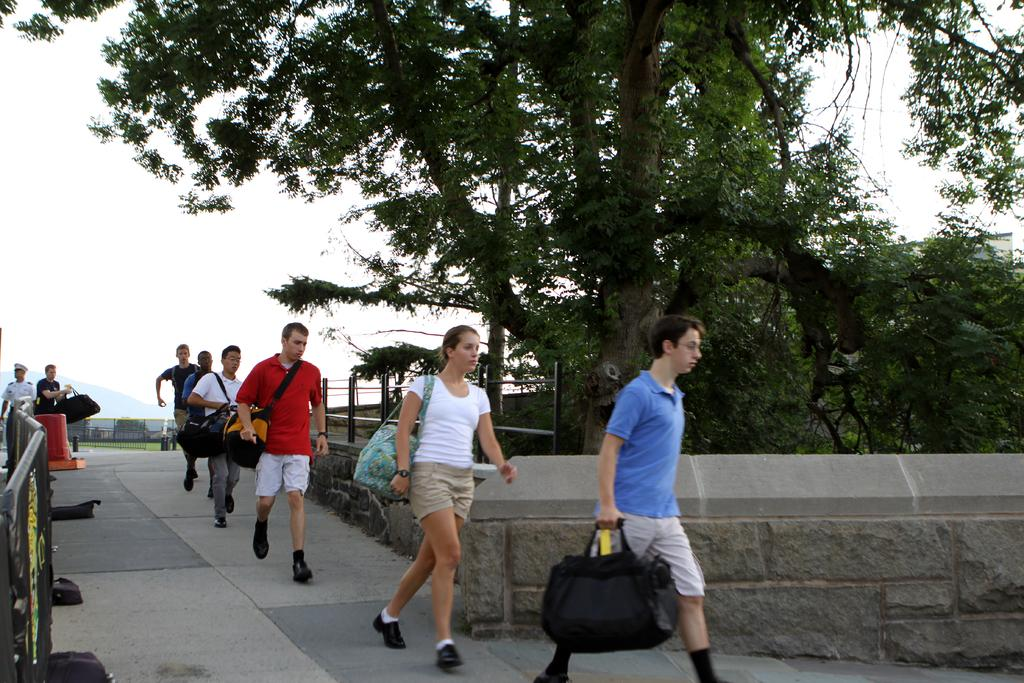Luggage-and-bags: (531, 534, 680, 671), (351, 374, 434, 500), (221, 361, 303, 471), (173, 367, 230, 458), (49, 386, 101, 425)
